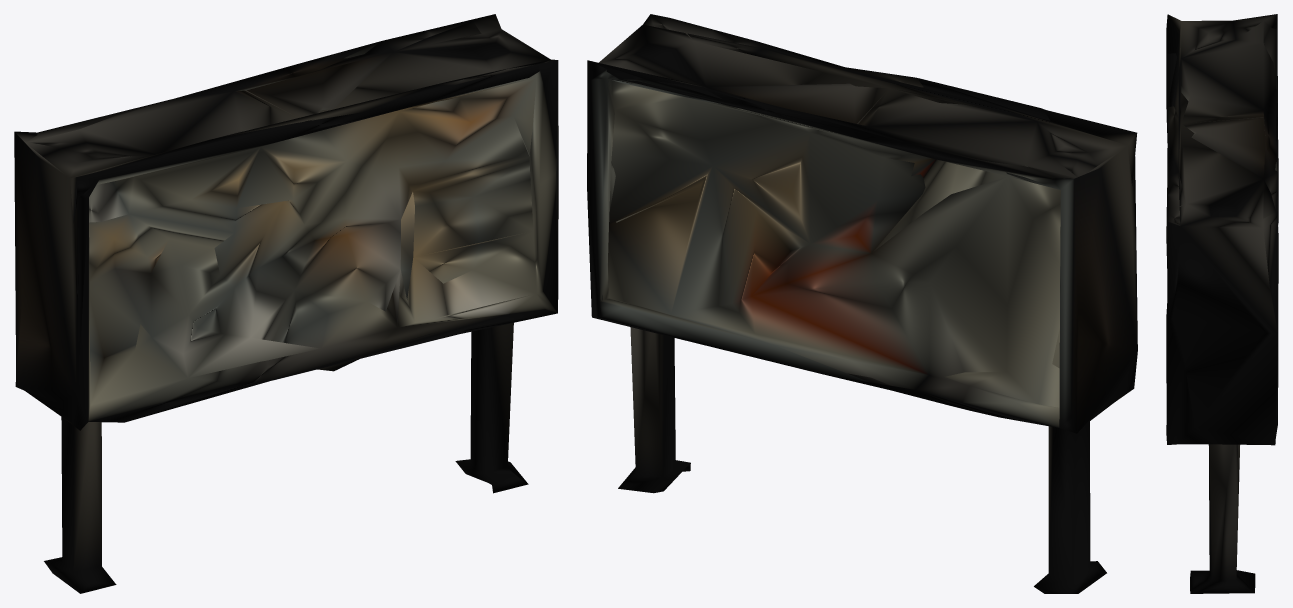
The model's file is gen3d-city-map-board-lod1.glb.
3 views of the same model, side by side, from view 1: azimuth 30°, elevation 25°; view 2: azimuth 150°, elevation 25°; view 3: azimuth 270°, elevation 25° (orthographic). The views are drawn at different scales.
Visible parts, largest first — view 1: part_0; view 2: part_0; view 3: part_0.
Part boxes in pixels (bbox=[...]): part_0: bbox=[14, 14, 558, 593]; part_0: bbox=[587, 14, 1137, 593]; part_0: bbox=[1166, 14, 1278, 593].
Size of the model in its own units: 1.17 by 0.9966 by 0.2665.
